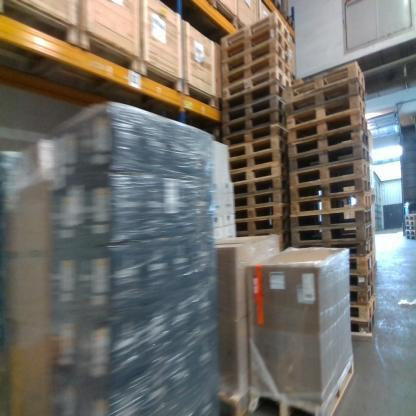pallets: (210, 6, 378, 341), (225, 354, 356, 415), (402, 205, 415, 244)
